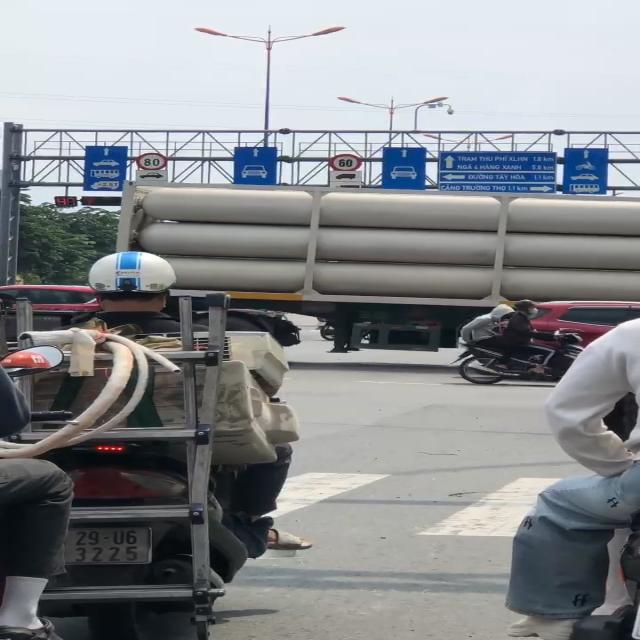Bien bao toc do toi da cho phep: (328, 150, 363, 172), (132, 152, 167, 173)
